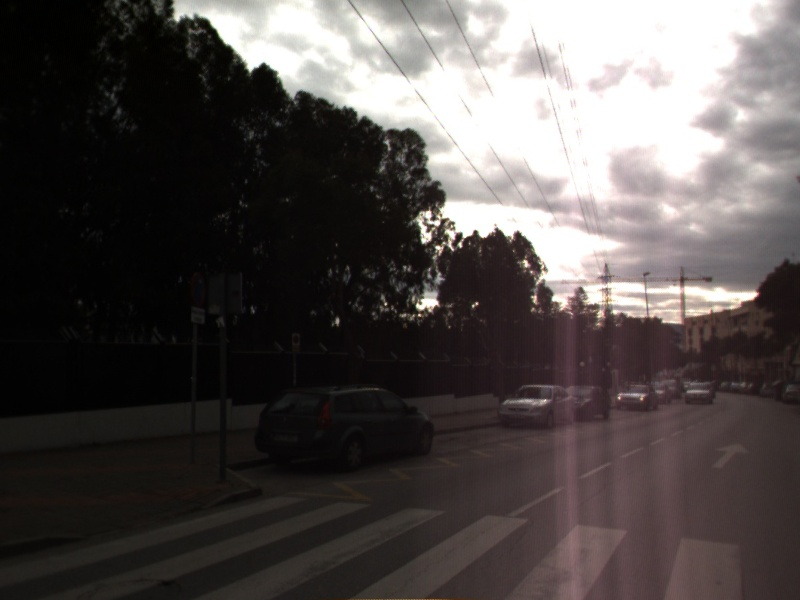STRAIGHT: (710, 441, 753, 470)
